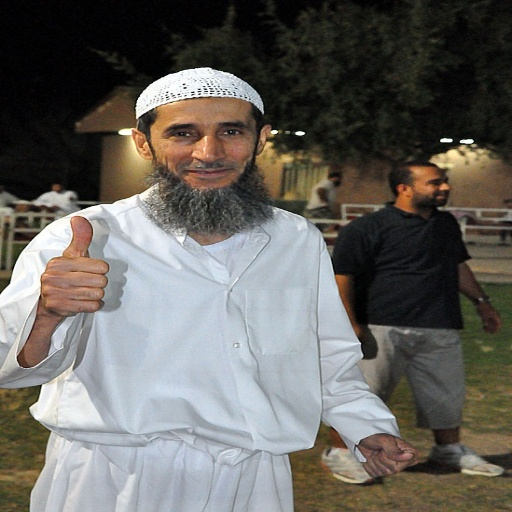hand: (29, 237, 116, 336), (354, 432, 416, 478), (473, 307, 503, 336), (354, 328, 379, 359)
